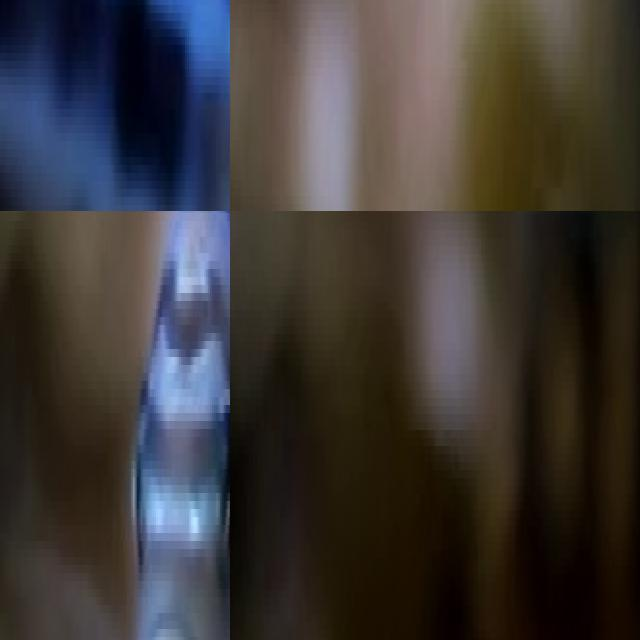fish: (111, 211, 230, 640), (0, 0, 230, 211)
